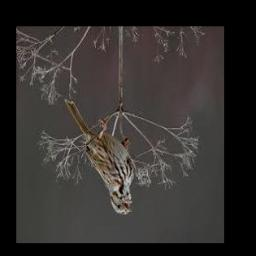Sparrow: (64, 98, 135, 215)
